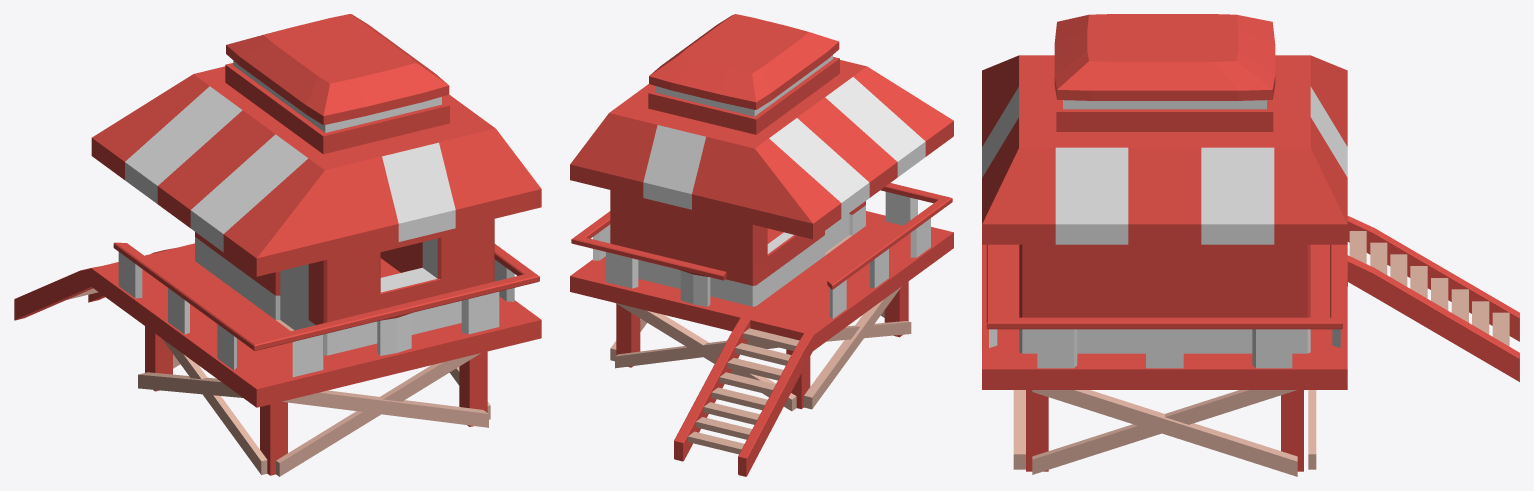
File: seehouse_01.fbx
The picture shows the model from 3 angles, left to right: view 1: azimuth 30°, elevation 25°; view 2: azimuth 150°, elevation 25°; view 3: azimuth 270°, elevation 25°; orthographic projection. The views are drawn at different scales.
Parts seen in each view (by area): view 1: seehouse_01; view 2: seehouse_01; view 3: seehouse_01.
Part boxes in pixels (x1,y1,x2,y2): seehouse_01: (14,14,541,476); seehouse_01: (570,14,953,476); seehouse_01: (982,14,1519,476).
Bounding box in the file's own units: 463 × 541 × 681.
